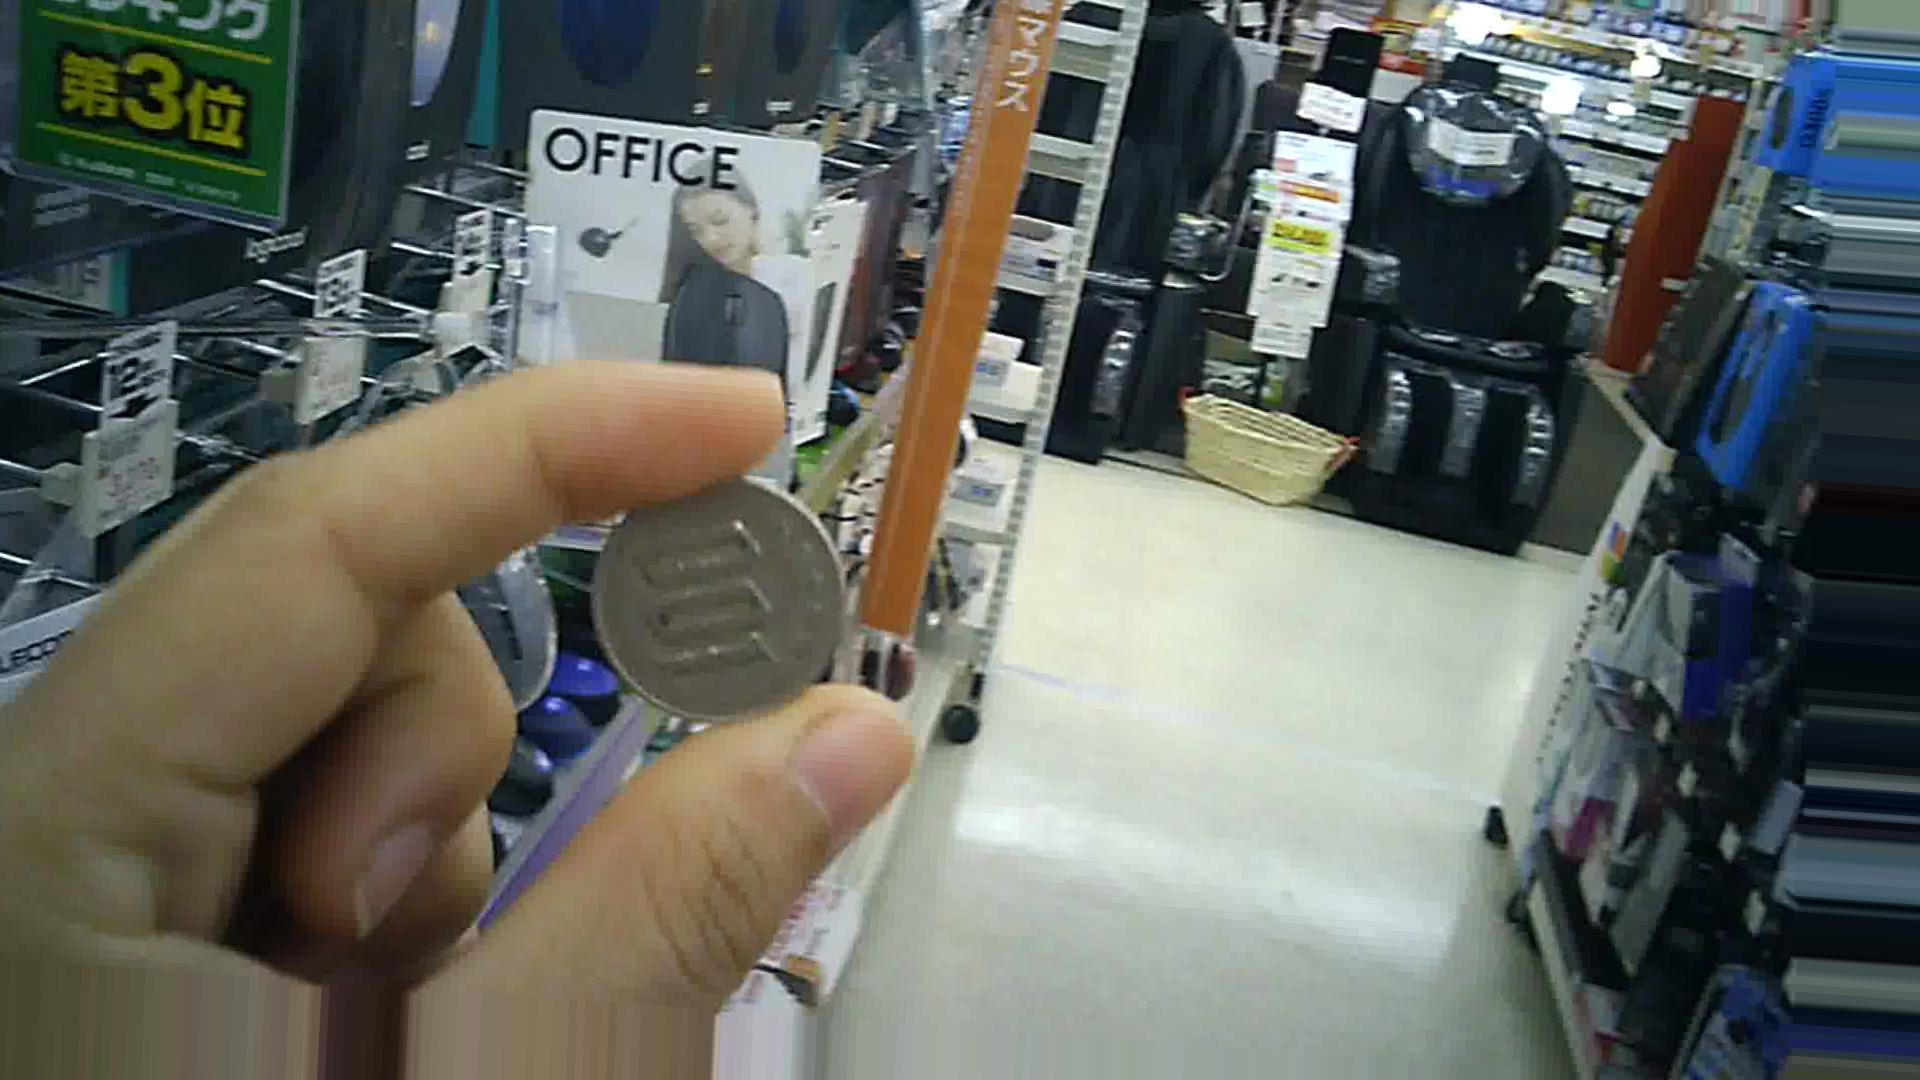100 Yen: (582, 471, 840, 716)
